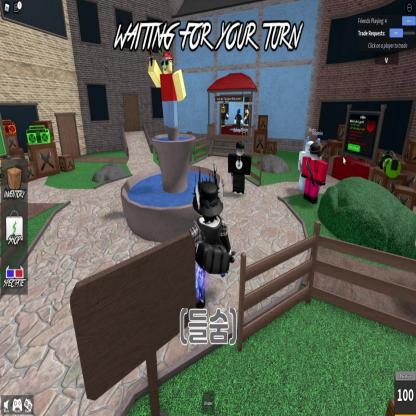Roblox-Avatar: (191, 162, 238, 310), (149, 51, 188, 130), (302, 141, 330, 206), (229, 141, 253, 195), (223, 104, 231, 129), (236, 109, 245, 130)
